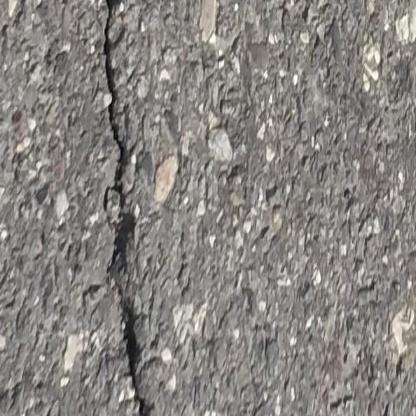Cracks: (99, 0, 159, 416), (78, 280, 107, 308)
